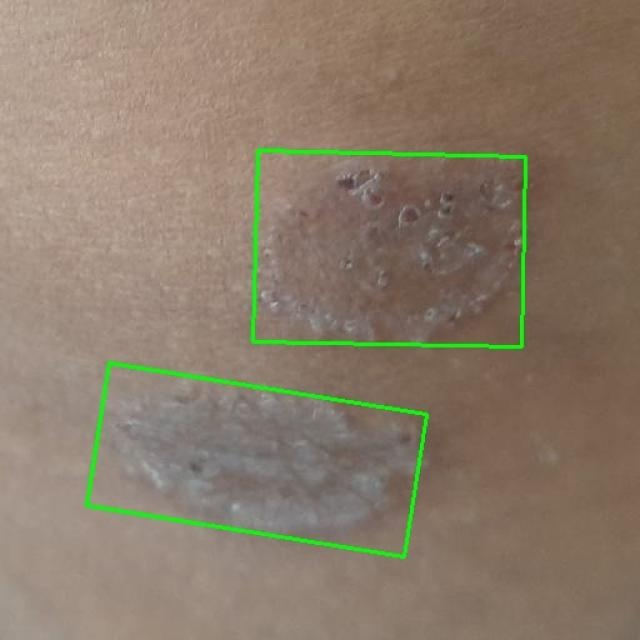Tinea Corporis: (86, 364, 427, 556), (254, 151, 526, 347)
